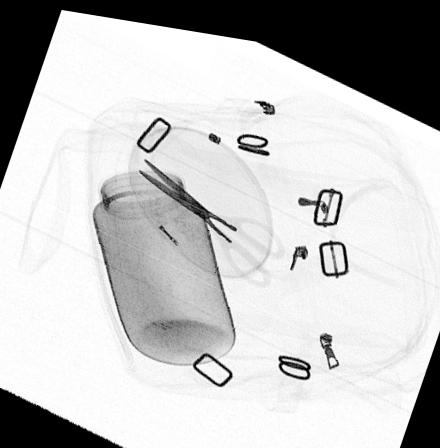Scissors: (132, 151, 291, 286)
